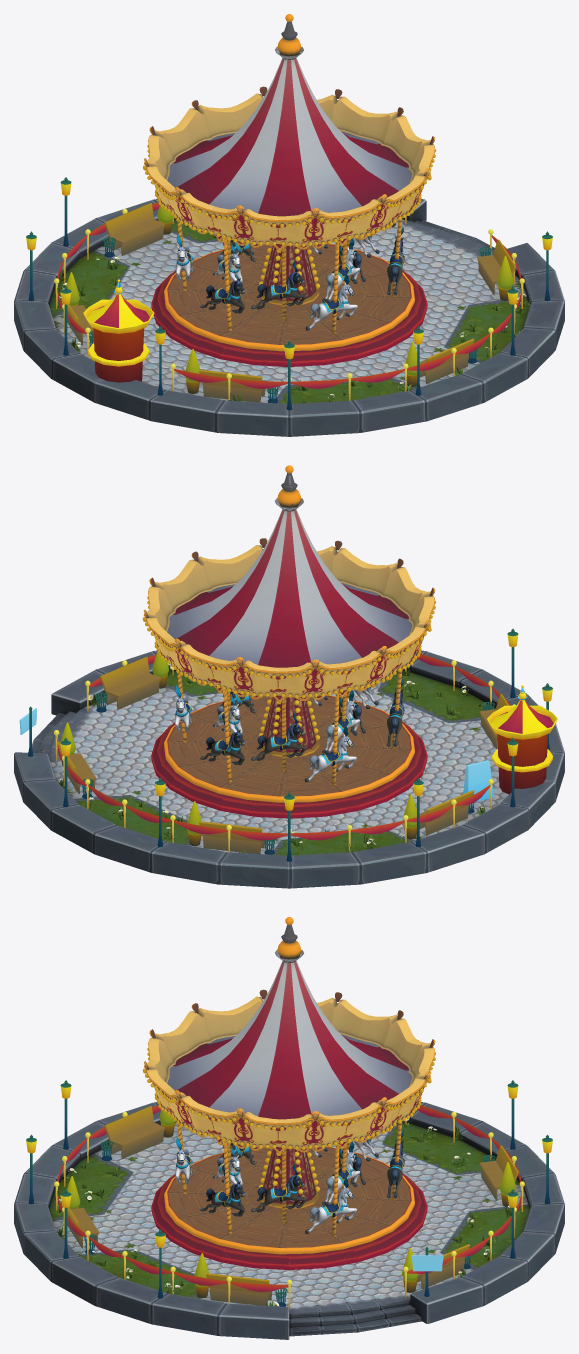
The model's file is carousel_real.glb.
The picture shows the model from 3 angles, top to bottom: view 1: azimuth 30°, elevation 25°; view 2: azimuth 150°, elevation 25°; view 3: azimuth 270°, elevation 25°; orthographic projection.
Parts seen in each view (by area): view 1: Floor, pasted__for_uv2extracted_2, pasted__for_uv2extracted_3, pasted__for_uv2extracted_1, polySurface43, pasted__for_uv2extracted_4, pCube30, polySurface329, polySurface309, polySurface310, polySurface328, polySurface308 (+38 smaller); view 2: Floor, for_uv5:for_uv2extracted_47, pasted__for_uv2extracted_1, pasted__for_uv2extracted_5, polySurface43, pasted__for_uv2extracted_2, pCube29, polySurface325, polySurface305, polySurface324, polySurface306, polySurface304 (+39 smaller); view 3: Floor, pasted__for_uv2extracted_4, pasted__for_uv2extracted_5, pasted__for_uv2extracted_3, for_uv5:for_uv2extracted_47, pCube33, polySurface333, polySurface301, polySurface302, polySurface332, polySurface328, polySurface300 (+38 smaller).
Boxes of the visible parts, x1,y1,x2,y2 form: Floor: (14, 199, 564, 436); pasted__for_uv2extracted_2: (209, 59, 311, 216); pasted__for_uv2extracted_3: (291, 58, 398, 212); pasted__for_uv2extracted_1: (167, 58, 284, 204); polySurface43: (87, 294, 149, 382); pasted__for_uv2extracted_4: (296, 58, 411, 190); pCube30: (104, 203, 165, 255); polySurface329: (278, 208, 349, 245); polySurface309: (218, 304, 286, 351); polySurface310: (279, 305, 343, 351); polySurface328: (209, 205, 278, 244); polySurface308: (175, 299, 271, 341); Floor: (14, 650, 564, 888); for_uv5:for_uv2extracted_47: (209, 510, 311, 667); pasted__for_uv2extracted_1: (291, 510, 398, 664); pasted__for_uv2extracted_5: (167, 509, 284, 655); polySurface43: (491, 700, 553, 794); pasted__for_uv2extracted_2: (296, 509, 411, 642); pCube29: (100, 657, 160, 709); polySurface325: (278, 659, 349, 696); polySurface305: (217, 755, 286, 802); polySurface324: (209, 657, 278, 695); polySurface306: (279, 756, 343, 802); polySurface304: (175, 750, 271, 793); Floor: (14, 1102, 564, 1339); pasted__for_uv2extracted_4: (209, 962, 311, 1119); pasted__for_uv2extracted_5: (291, 961, 398, 1115); pasted__for_uv2extracted_3: (167, 961, 284, 1107); for_uv5:for_uv2extracted_47: (296, 961, 411, 1093); pCube33: (104, 1106, 165, 1158); polySurface333: (278, 1111, 349, 1148); polySurface301: (218, 1207, 286, 1254); polySurface302: (279, 1208, 343, 1254); polySurface332: (209, 1108, 278, 1147); polySurface328: (174, 1003, 236, 1051); polySurface300: (175, 1202, 271, 1244).
Size of the model in its own units: 17.9 by 11.01 by 17.91.
6 materials, 6 textured.
